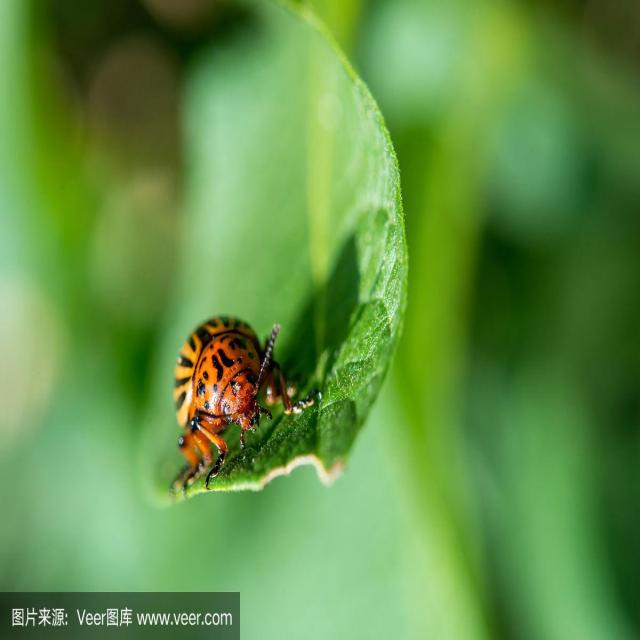ShuCaiHuaBanChong-Grown-: (174, 301, 288, 458)
